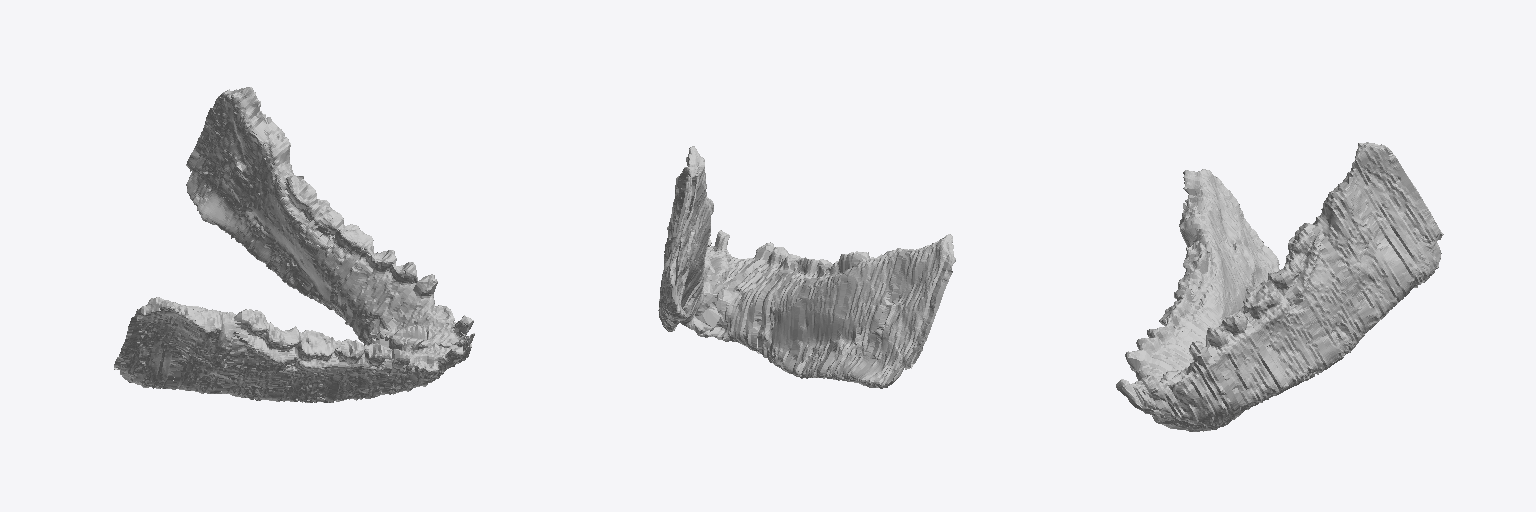
The model's file is jaw3.obj.
3 renders of one model, left to right at view 1: azimuth 30°, elevation 25°; view 2: azimuth 150°, elevation 25°; view 3: azimuth 270°, elevation 25°, orthographic.
Bounding box in the file's own units: 1.65 × 1.35 × 1.54.